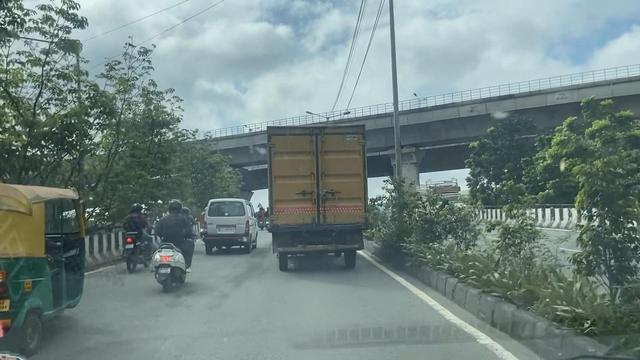HMV: (270, 127, 366, 272)
LMV: (0, 186, 90, 350), (150, 200, 197, 293), (202, 197, 251, 254), (129, 210, 146, 270)
